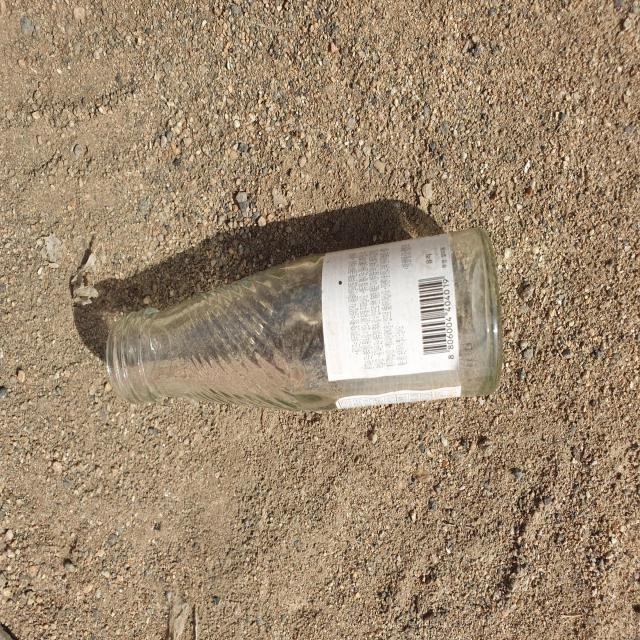glass: (106, 228, 502, 411)
